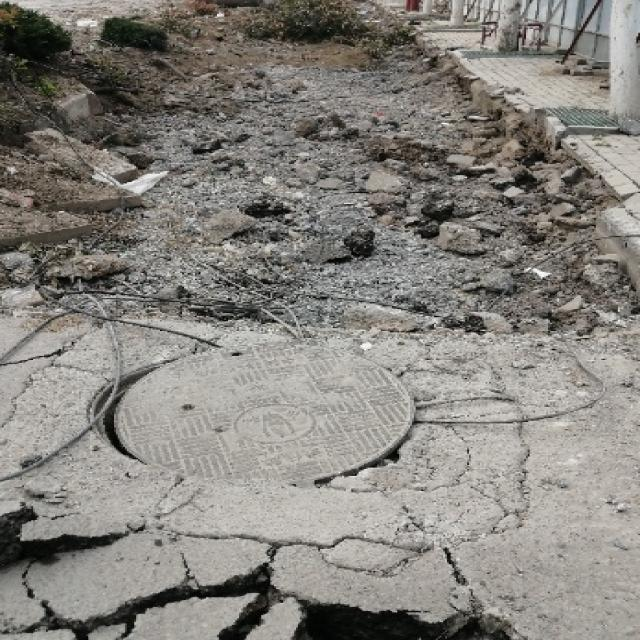Faulty: (73, 328, 449, 508)
